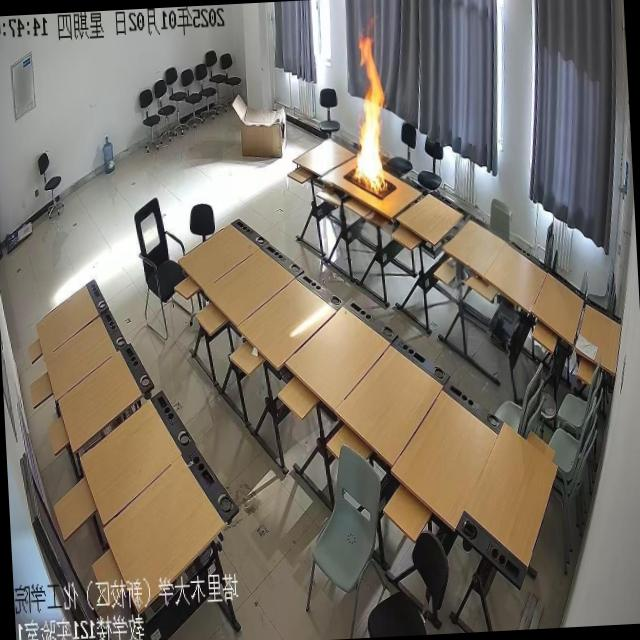fire: (328, 18, 402, 205)
